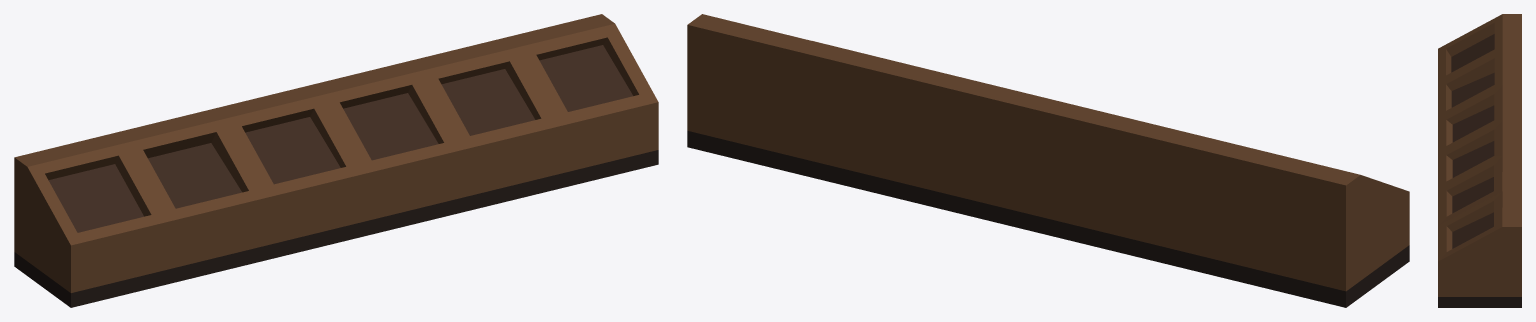
File: bacsBois_x6.fbx
3 views of the same model, side by side, from view 1: azimuth 30°, elevation 25°; view 2: azimuth 150°, elevation 25°; view 3: azimuth 270°, elevation 25° (orthographic). The views are drawn at different scales.
Parts seen in each view (by area): view 1: Cube.014; view 2: Cube.014; view 3: Cube.014.
Part boxes in pixels (x1,y1,x2,y2): Cube.014: (14, 14, 658, 307); Cube.014: (687, 14, 1409, 307); Cube.014: (1438, 14, 1521, 307).
Bounding box in the file's own units: 600 × 107 × 100.
